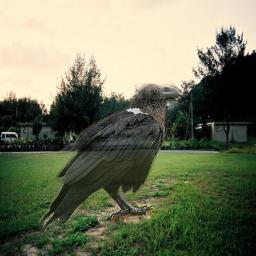Crow: (38, 83, 180, 228)
